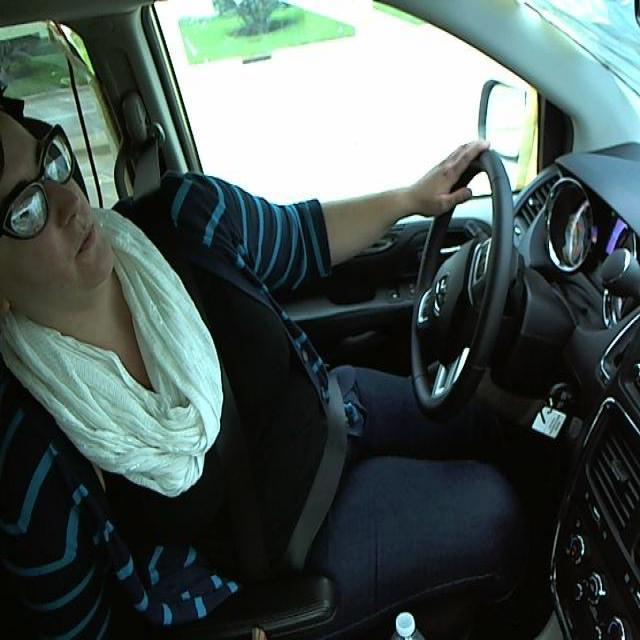seatbelt: (207, 384, 341, 556)
